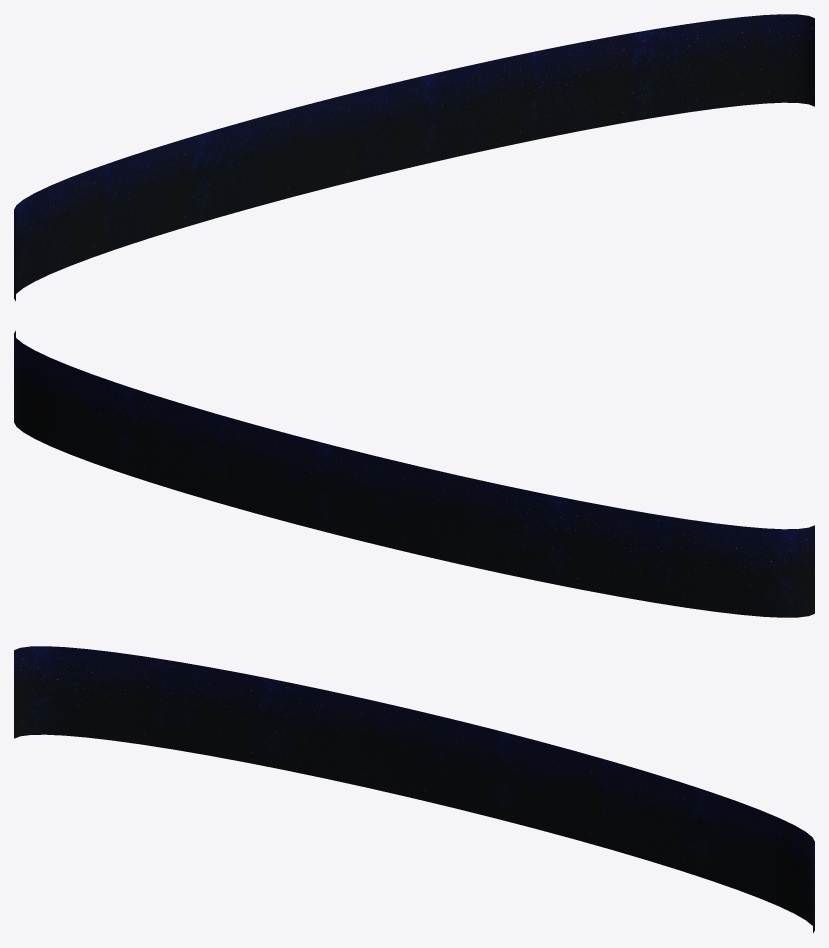
File: ding.FBX
The picture shows the model from 3 angles, top to bottom: view 1: azimuth 30°, elevation 25°; view 2: azimuth 150°, elevation 25°; view 3: azimuth 330°, elevation 25°; orthographic projection.
Parts seen in each view (by area): view 1: Object; view 2: Object; view 3: Object.
Boxes of the visible parts, left/top/right/bottom form: Object: left=14, top=14, right=814, bottom=301; Object: left=14, top=330, right=814, bottom=617; Object: left=14, top=646, right=814, bottom=933.
Size of the model in its own units: 704 by 74.6 by 59.57.
Materials: 1 (1 with a texture image).
